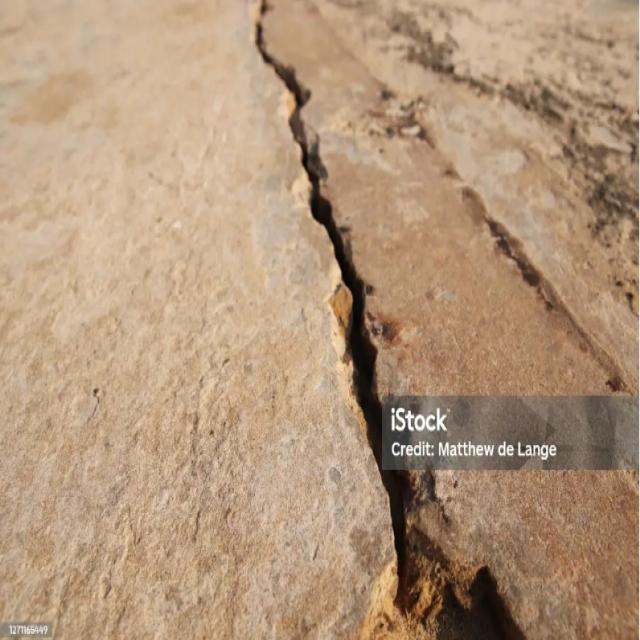diagonal crack: (255, 0, 523, 639)
